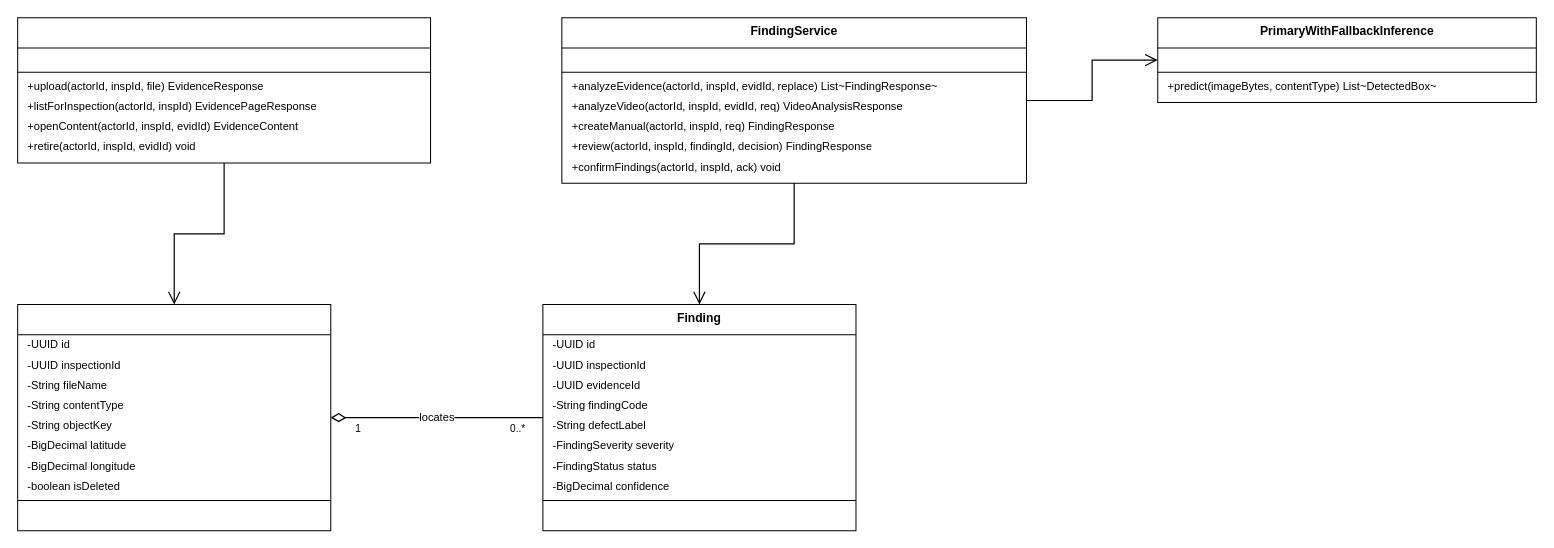
Image size: 1554x548. Some labels were removed from this diagram. The shapes that lost their labels are listed below. From the top down, each one's box as (x1, y1, x2, y2) in pixels, then its label:
(17, 17, 431, 163): EvidenceService
(17, 304, 331, 531): Evidence
